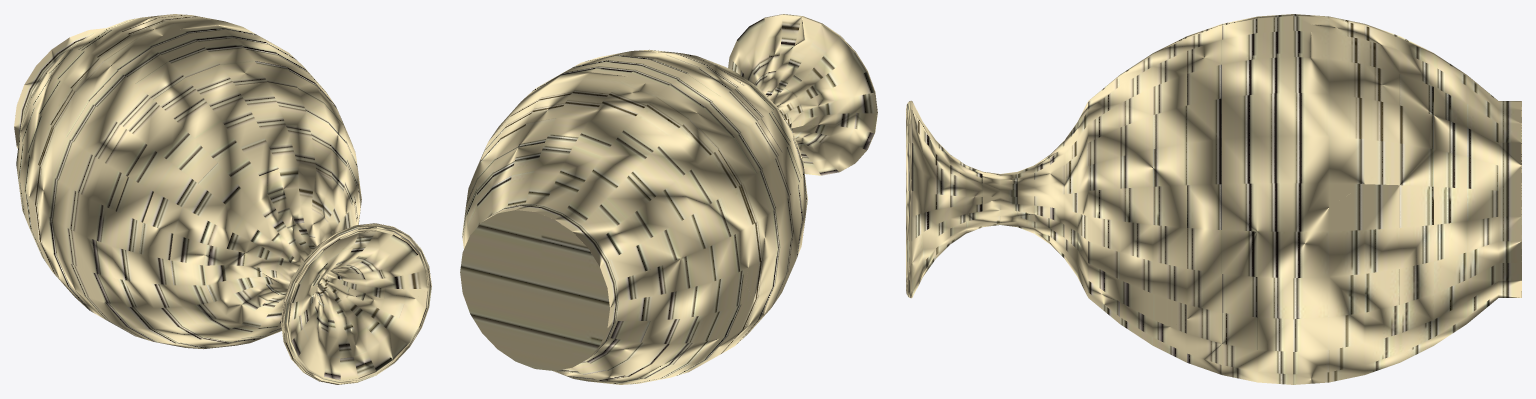
The model's file is model_align.obj.
3 renders of one model, left to right at view 1: azimuth 30°, elevation 25°; view 2: azimuth 150°, elevation 25°; view 3: azimuth 270°, elevation 25°, orthographic. The views are drawn at different scales.
Bounding box in the file's own units: 0.1264 × 0.1264 × 0.209.
Materials: 1 (1 with a texture image).
